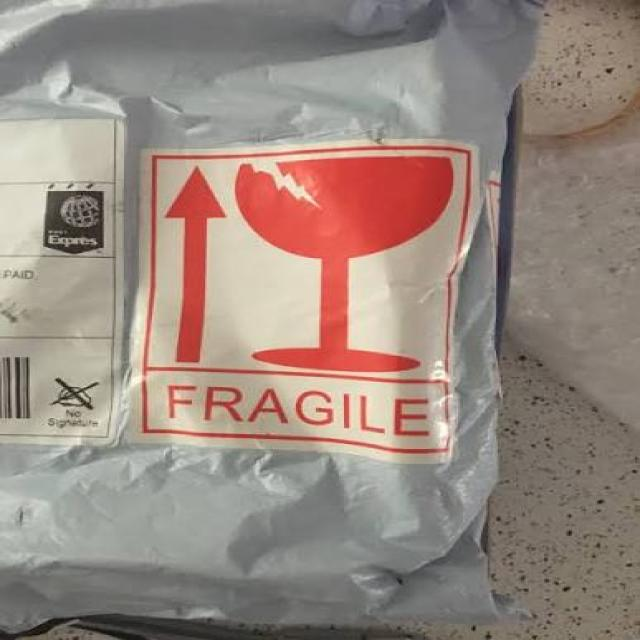fragile_label: (139, 145, 461, 459)
